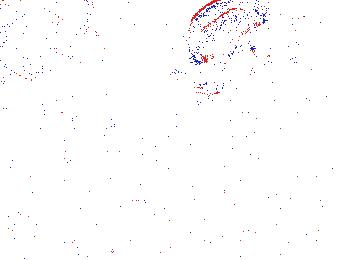moon jellyfish: (186, 1, 265, 65), (257, 3, 340, 63), (1, 1, 50, 86)
